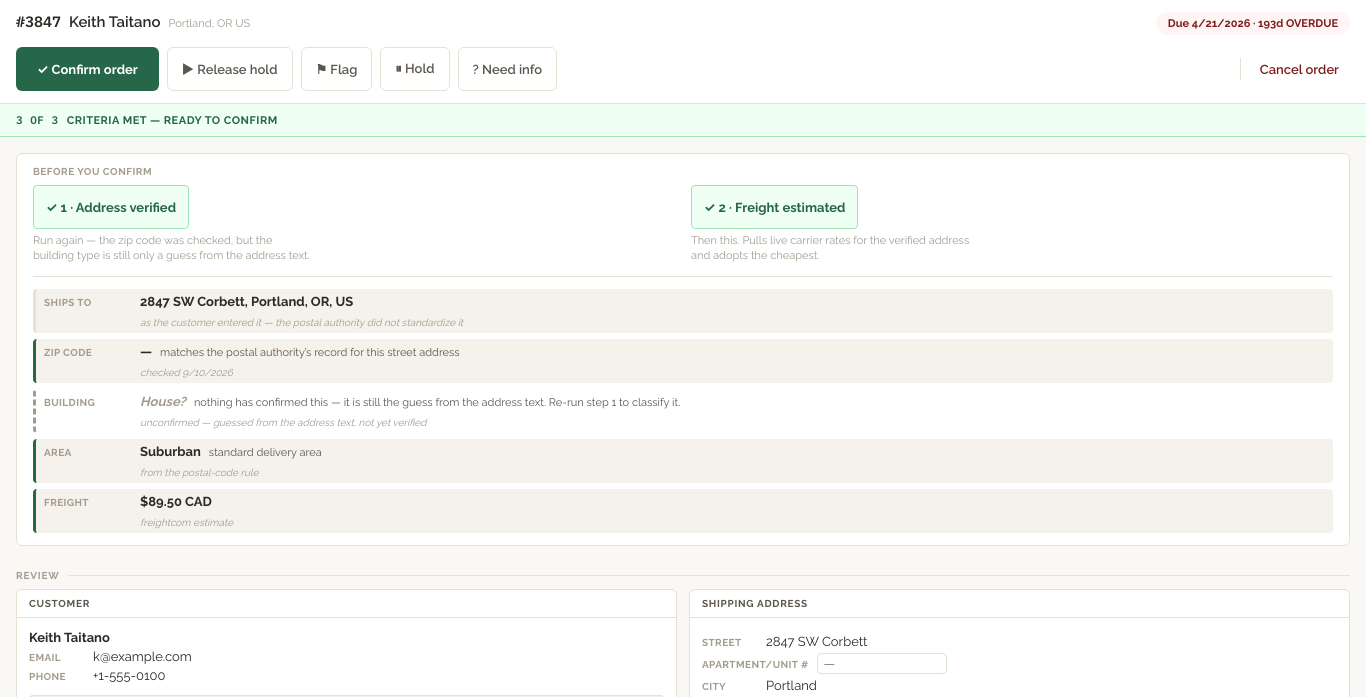
it: Detail › Release hold › surfaces a refusal instead of pretending the hold lifted
Click the button "▶ Release hold": click(230, 69) left=167, top=47, right=292, bottom=91
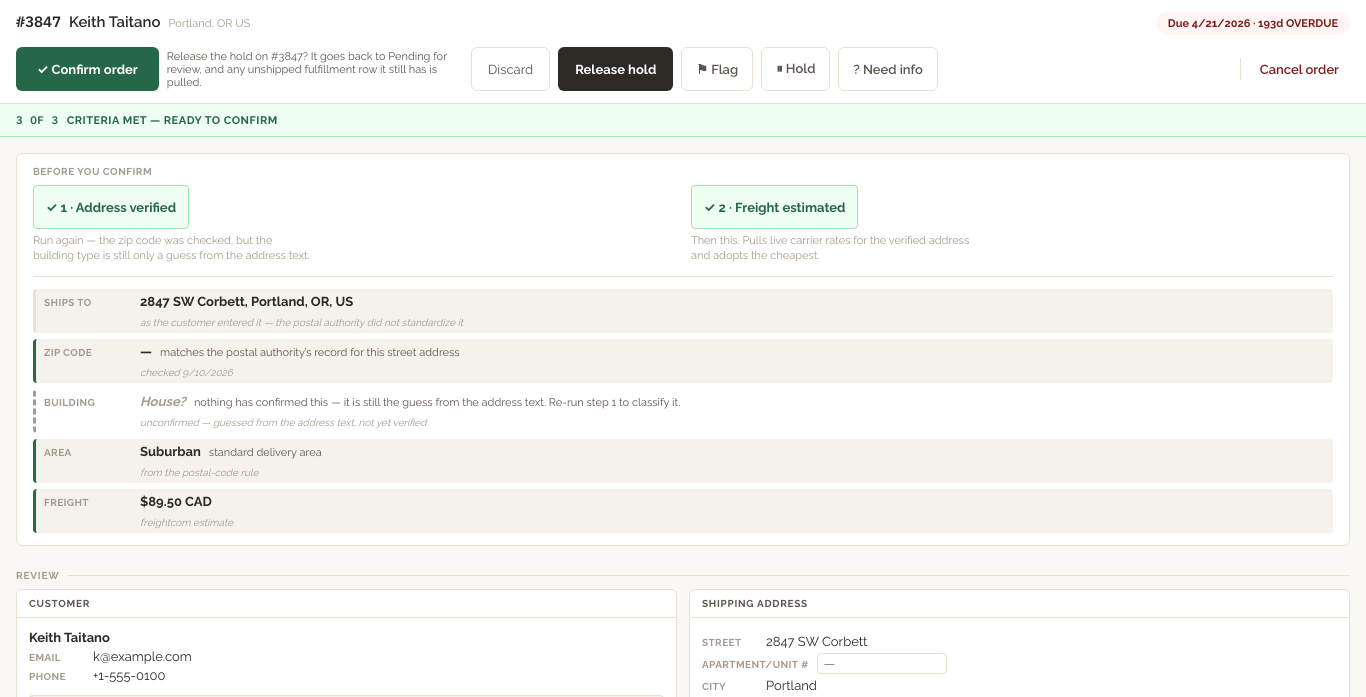
Click the button "Release hold": click(616, 69) left=558, top=47, right=673, bottom=91
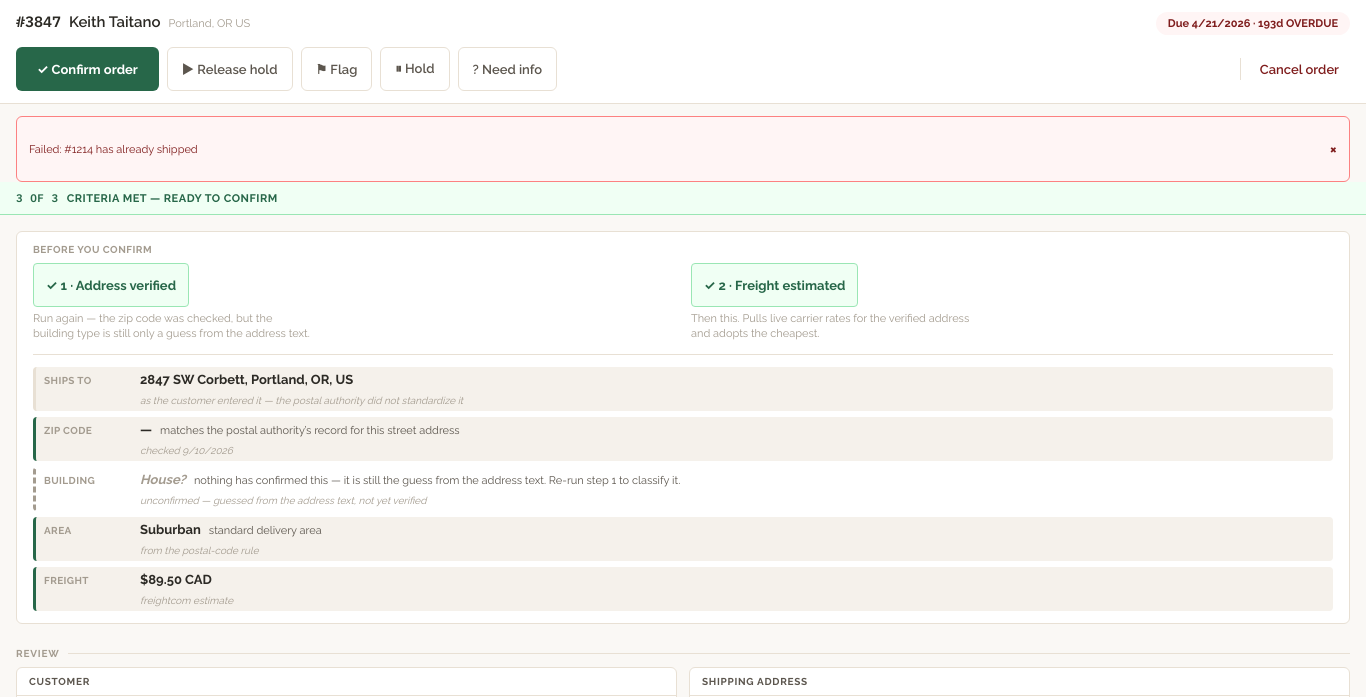
Expected: the text "Failed: #1214 has already shipped" is shown, left=29, top=142, right=198, bottom=156
